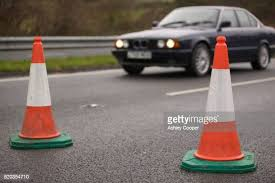car: (111, 5, 274, 77)
cone: (195, 37, 248, 161), (17, 36, 61, 138)
